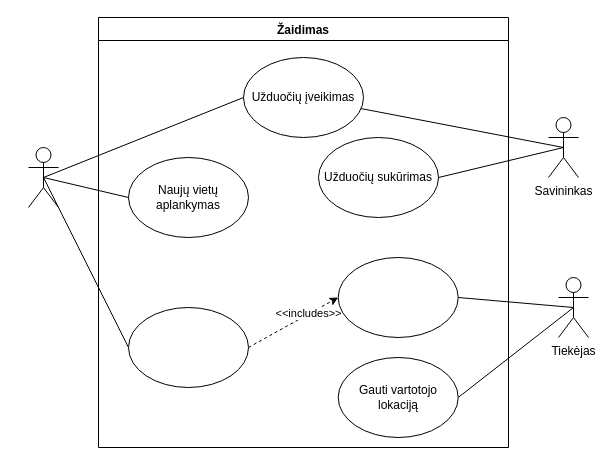
Some shapes in this 613 by 465 pixel diagram are drawn without their labels. Here are the shapes that lost their labels. From the top down, the centre of each, then its label:
the point at 43,177: Vartotojas
the point at 397,297: Suteikti žemėlapio duomenis
the point at 188,347: Sklandus žaidimo veikimas
